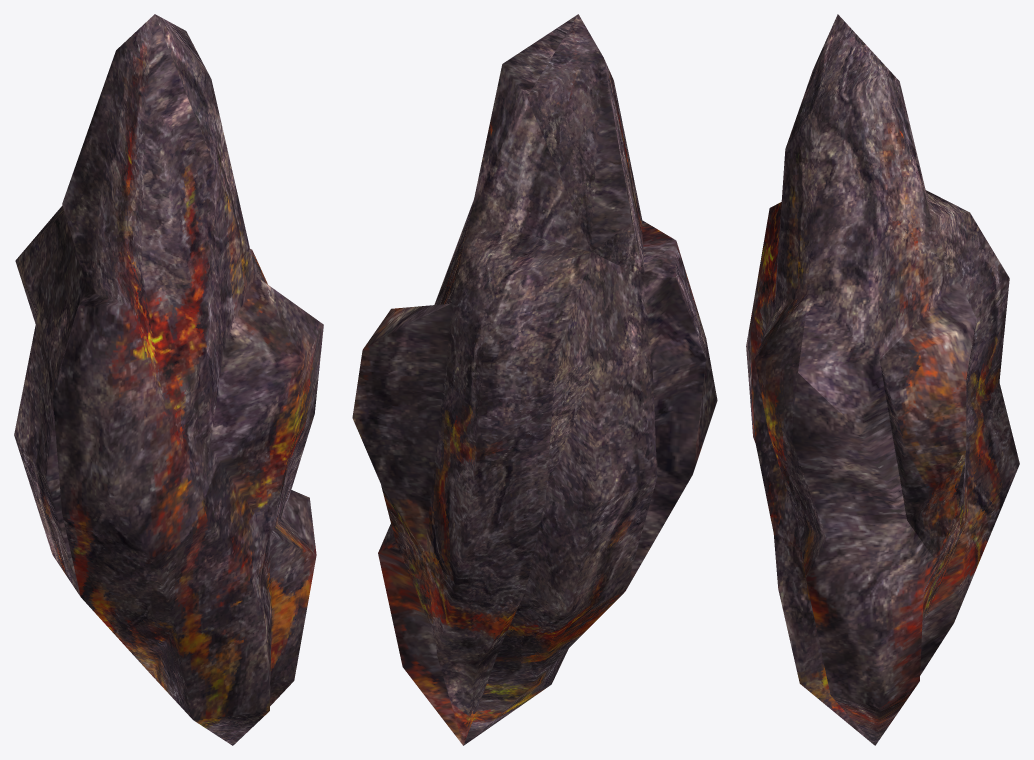
Rendered from stone01.fbx.
The picture shows the model from 3 angles, left to right: view 1: azimuth 30°, elevation 25°; view 2: azimuth 150°, elevation 25°; view 3: azimuth 270°, elevation 25°; orthographic projection. The views are drawn at different scales.
Parts seen in each view (by area): view 1: stone01; view 2: stone01; view 3: stone01.
Boxes of the visible parts, <box> form: stone01: <box>14,14,323,745</box>; stone01: <box>352,14,717,745</box>; stone01: <box>746,14,1019,745</box>.
Bounding box in the file's own units: 7.24 × 18.38 × 6.62.
